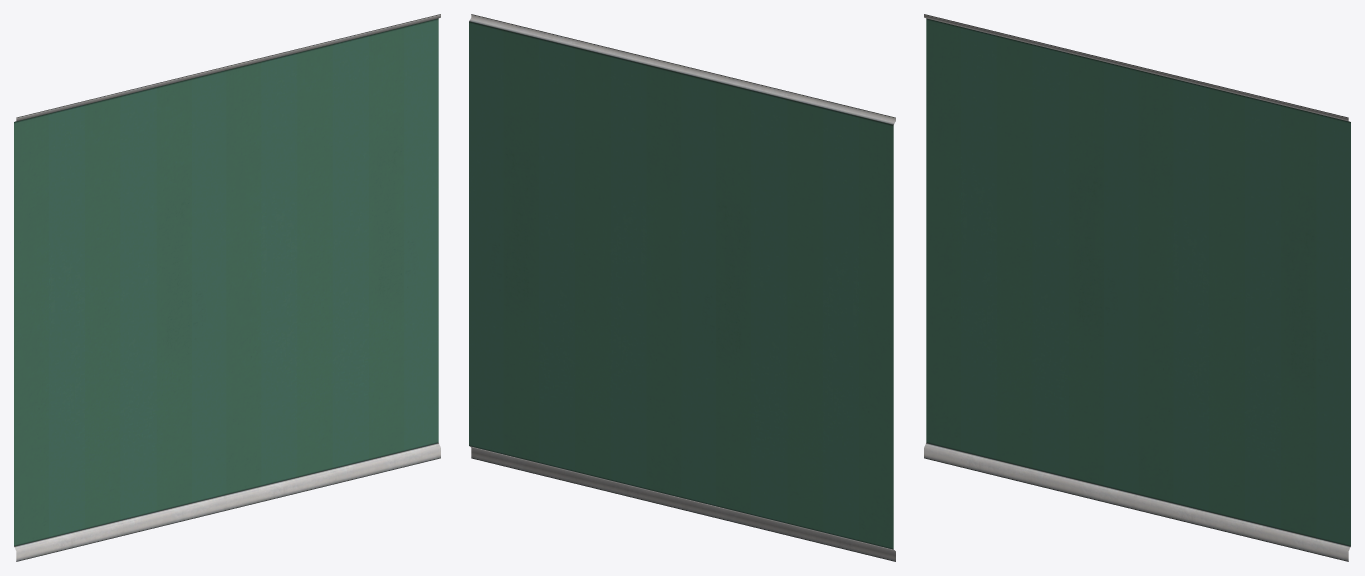
File: livingroom_flat.dae
3 renders of one model, left to right at view 1: azimuth 30°, elevation 25°; view 2: azimuth 150°, elevation 25°; view 3: azimuth 330°, elevation 25°, orthographic.
Parts seen in each view (by area): view 1: polySurface7; view 2: polySurface7; view 3: polySurface7.
Part boxes in pixels (<box>): polySurface7: <box>14,14,440,561</box>; polySurface7: <box>469,14,895,561</box>; polySurface7: <box>924,14,1350,561</box>.
Bounding box in the file's own units: 4 × 4 × 0.0341.
